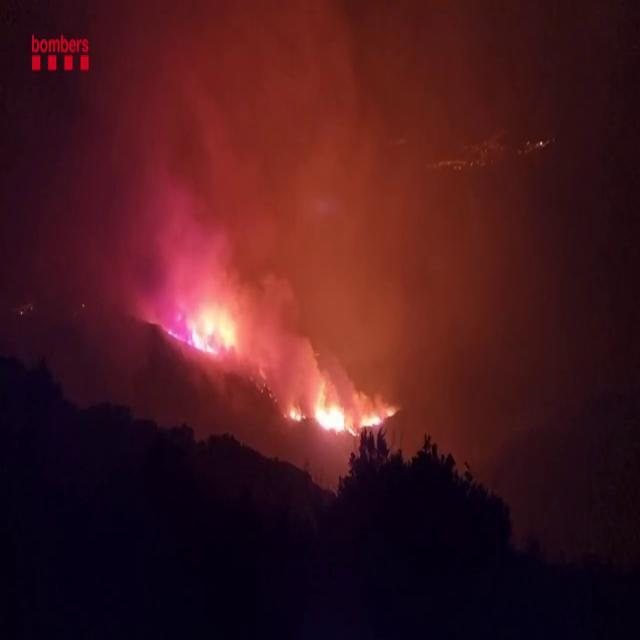Fire: (176, 283, 244, 364), (306, 372, 356, 444)
Smoke: (78, 1, 604, 359)
